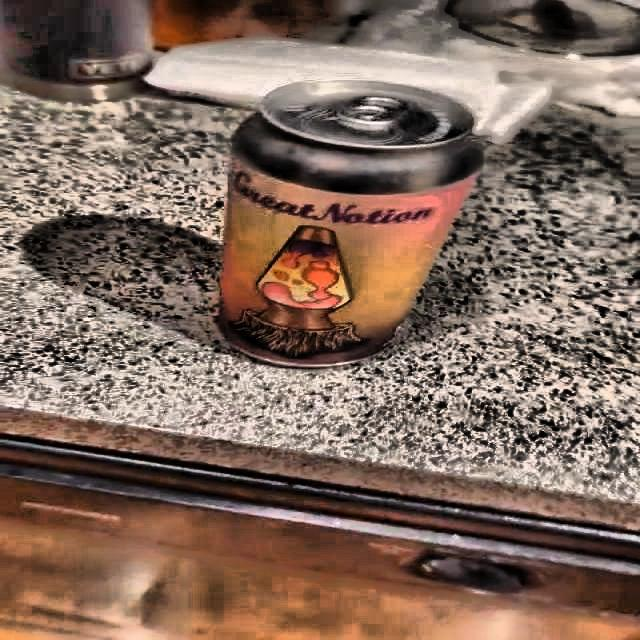can: (203, 65, 497, 374)
